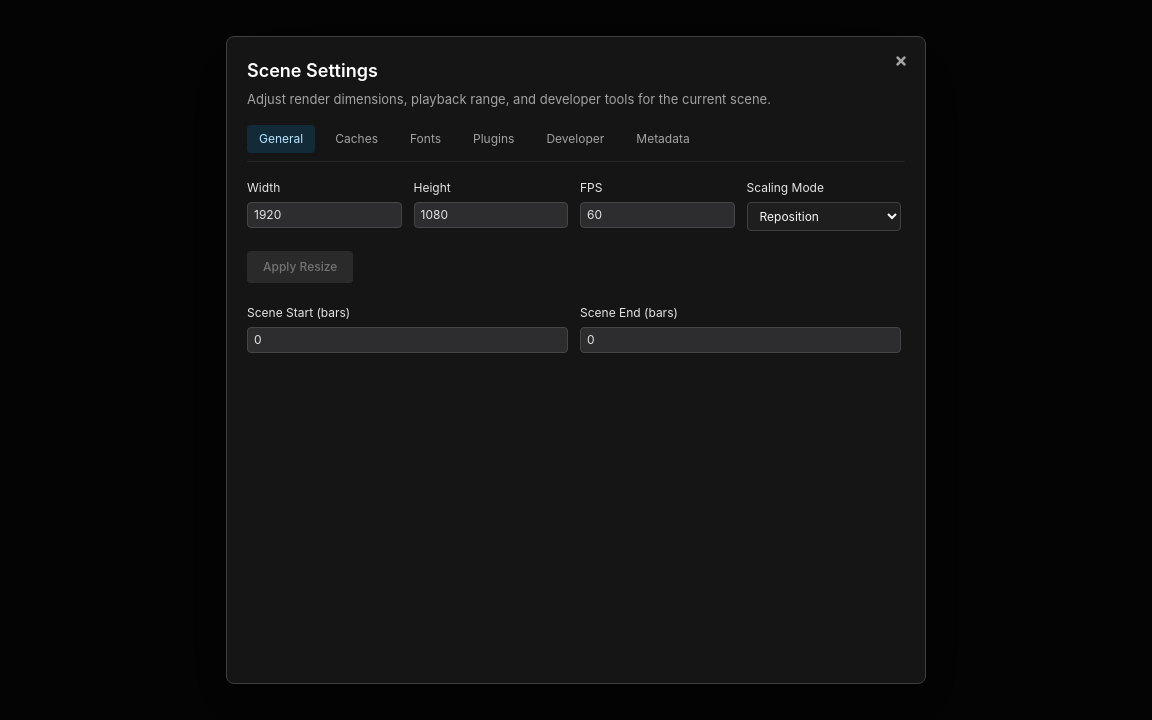
Scenario: SceneSettingsModal › labels the developer tools tab as Developer
The image size is (1152, 720).
Expected: the text "developer tools for the current scene" is shown, [247, 91, 771, 107]
Click the button "Developer". click: click(575, 139)
box: [534, 125, 616, 153]
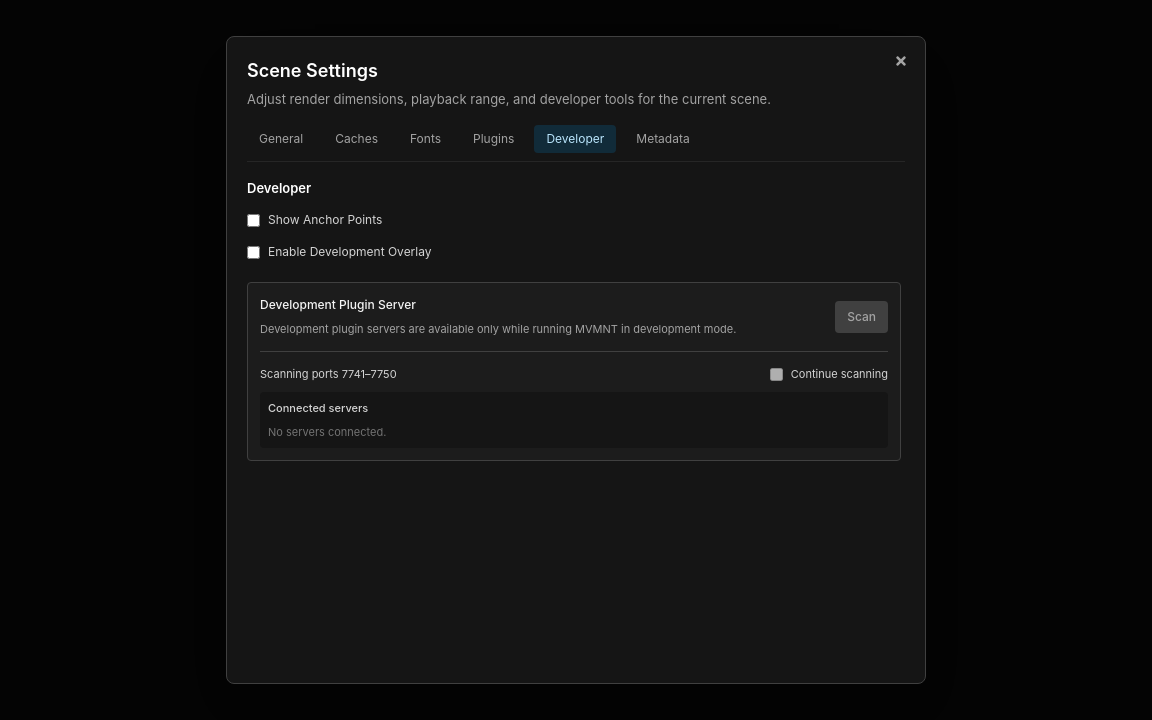
Result: the heading "Developer" is shown at [247, 180, 311, 196]
Result: the heading "Development Plugin Server" is shown at [260, 297, 416, 312]
